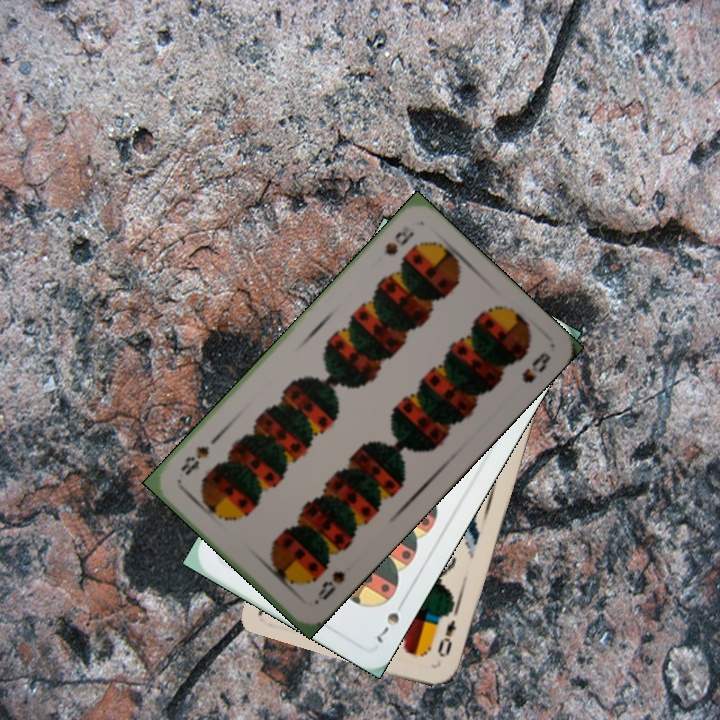EO: (433, 616, 459, 660)
S7: (370, 594, 408, 646)
S8: (309, 566, 348, 608), (380, 227, 417, 258)
